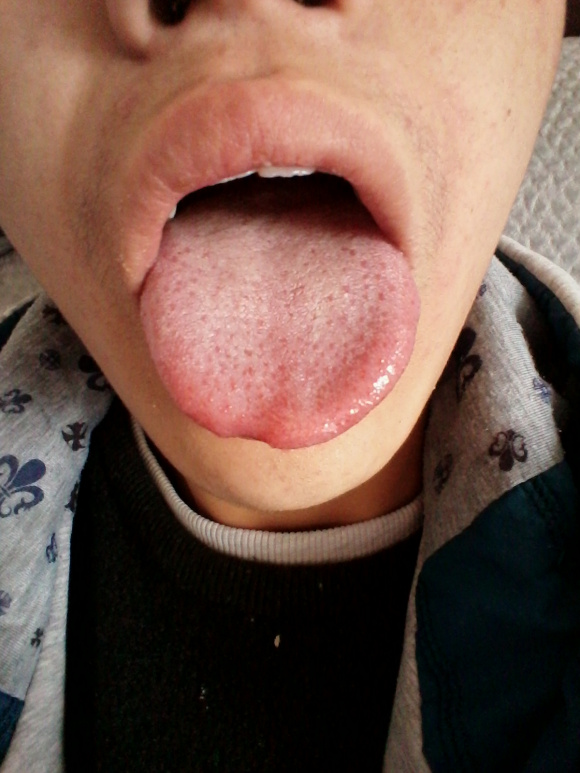baitaishe: (142, 168, 417, 450)
hongdianshe: (242, 345, 255, 357)
hongshe: (142, 168, 417, 450)
